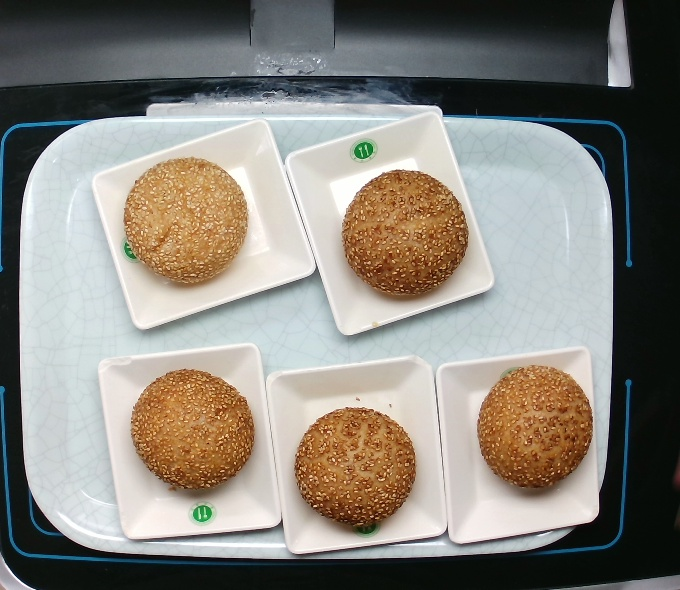wcq-MaCi: (324, 165, 477, 305), (118, 357, 264, 503), (121, 154, 251, 287), (470, 357, 594, 496), (298, 404, 418, 532)
